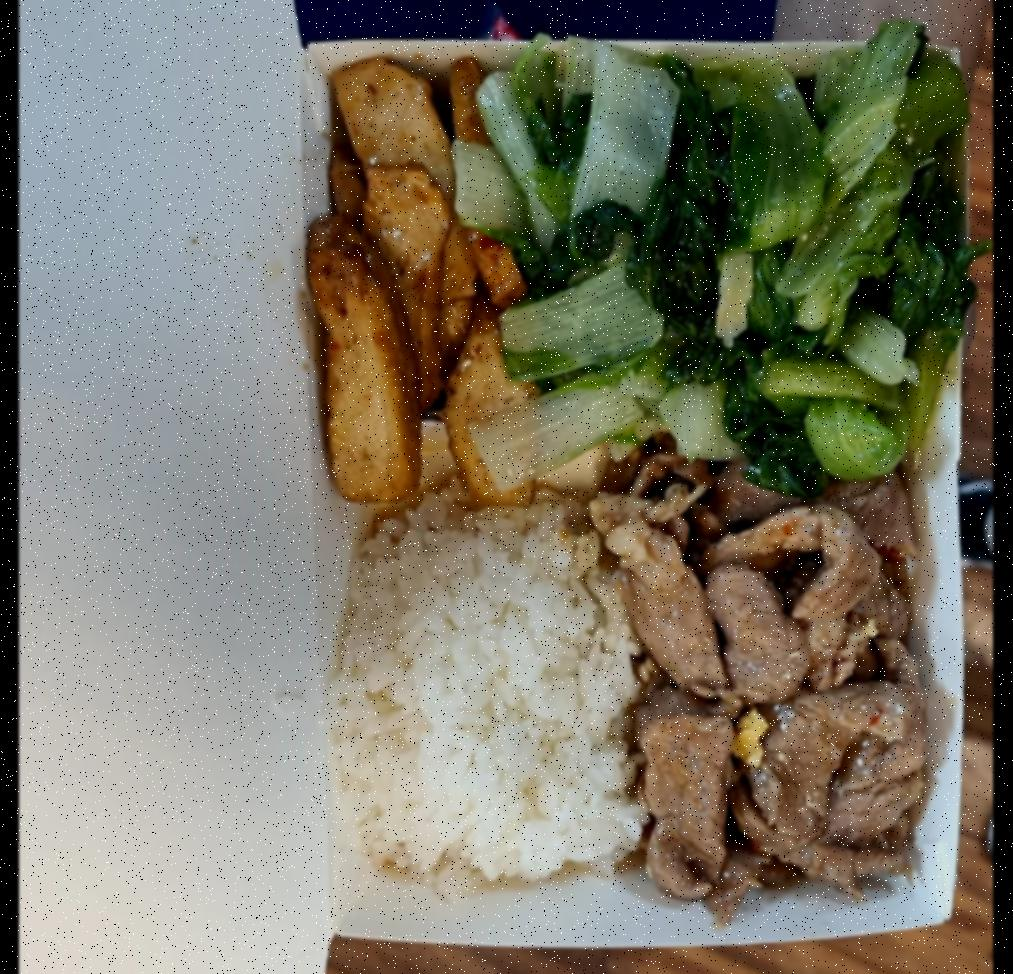box: (277, 5, 982, 971)
pork with scrambled eggs: (635, 445, 936, 916)
side dish: (318, 59, 524, 471), (740, 43, 954, 433), (532, 46, 741, 440)
white rice: (345, 502, 628, 886)
